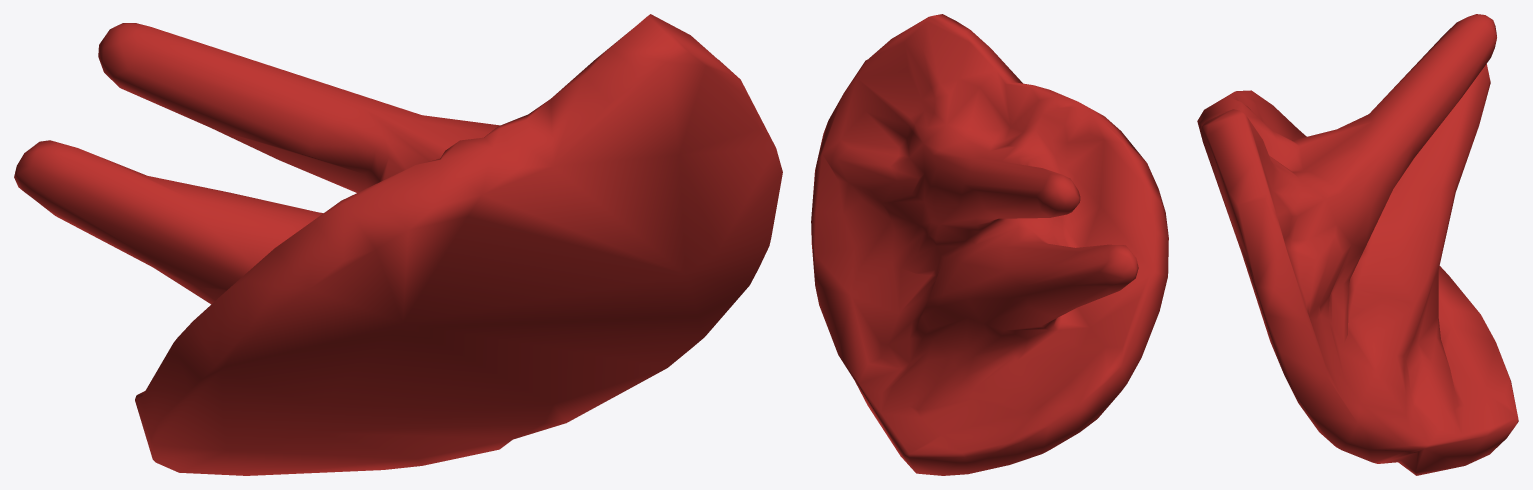
File: circulatorio-anterior-papillary-muscle-of-right-ventricle.glb
The picture shows the model from 3 angles, left to right: view 1: azimuth 30°, elevation 25°; view 2: azimuth 150°, elevation 25°; view 3: azimuth 270°, elevation 25°; orthographic projection. The views are drawn at different scales.
Parts seen in each view (by area): view 1: Anterior papillary muscle of right ventricle; view 2: Anterior papillary muscle of right ventricle; view 3: Anterior papillary muscle of right ventricle.
Part boxes in pixels (x1,y1,x2,y2): Anterior papillary muscle of right ventricle: [14, 14, 782, 475]; Anterior papillary muscle of right ventricle: [811, 14, 1168, 475]; Anterior papillary muscle of right ventricle: [1197, 14, 1518, 475].
Size of the model in its own units: 0.0364 by 0.0302 by 0.0223.
